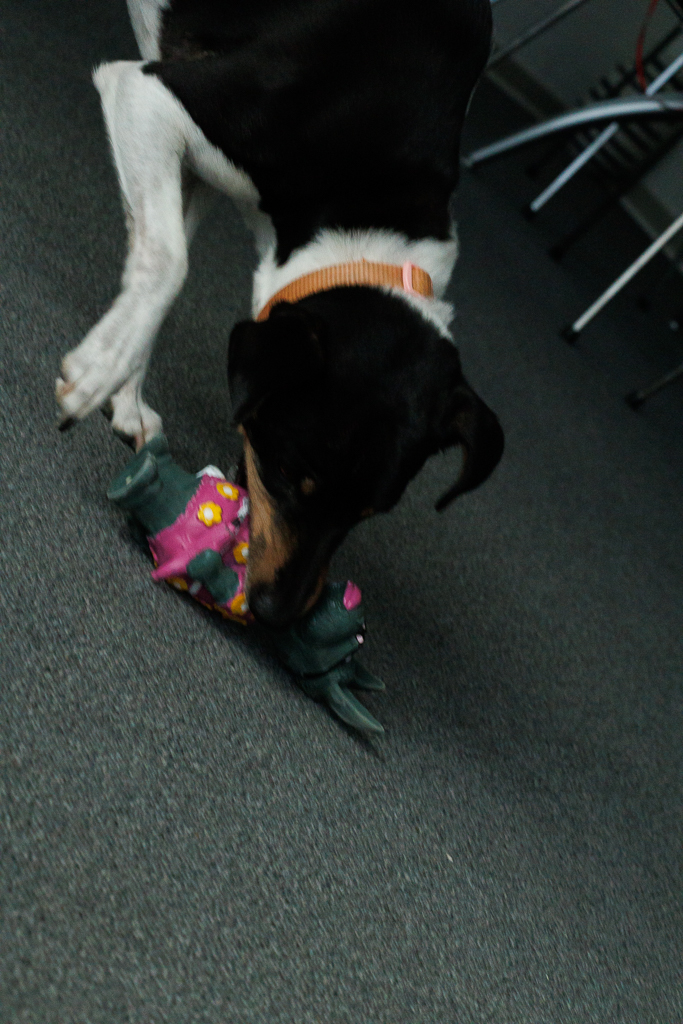Dog: (40, 0, 515, 674)
Humanoid: (95, 421, 408, 749)
